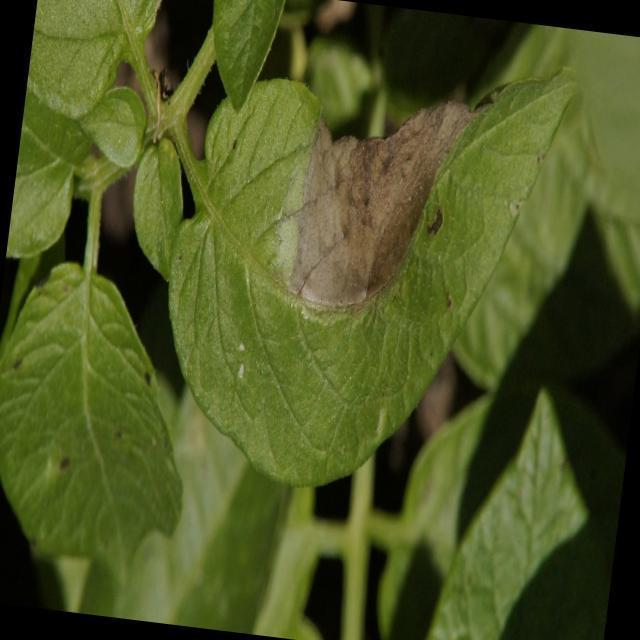Healthy Leaf: (119, 124, 192, 288), (199, 0, 285, 119), (78, 85, 150, 169)
